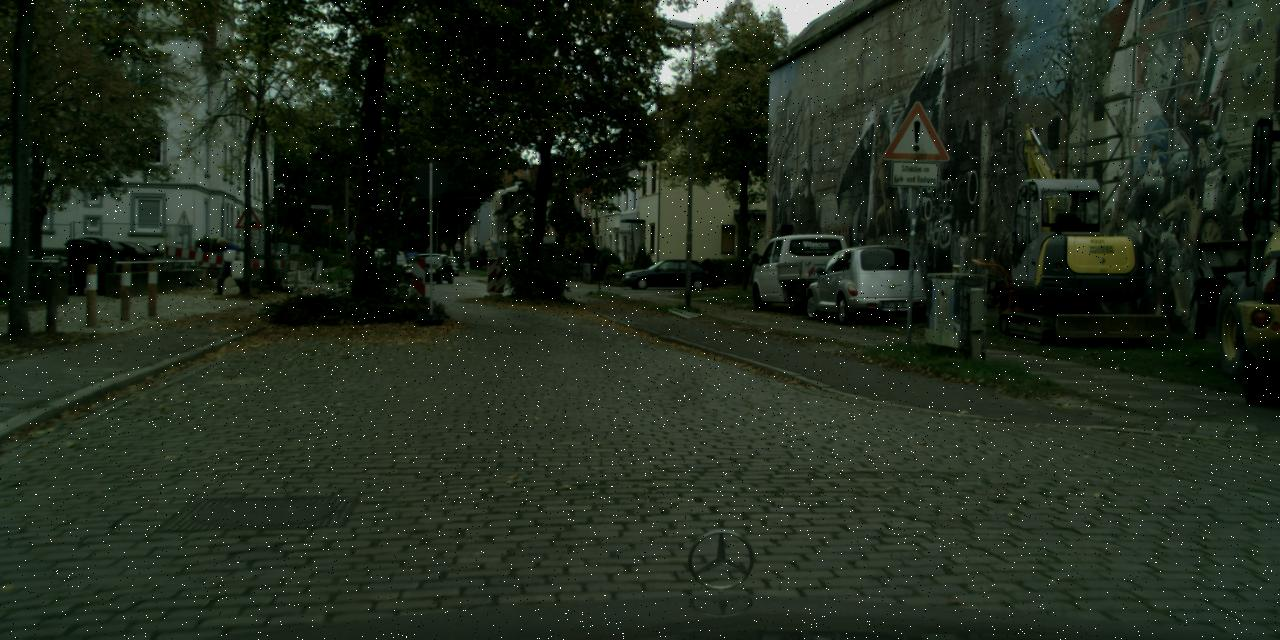ped: (214, 236, 238, 294)
